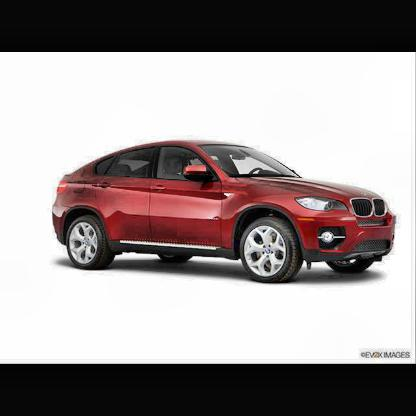BMW X6 SUV 2012: (53, 142, 398, 284)
